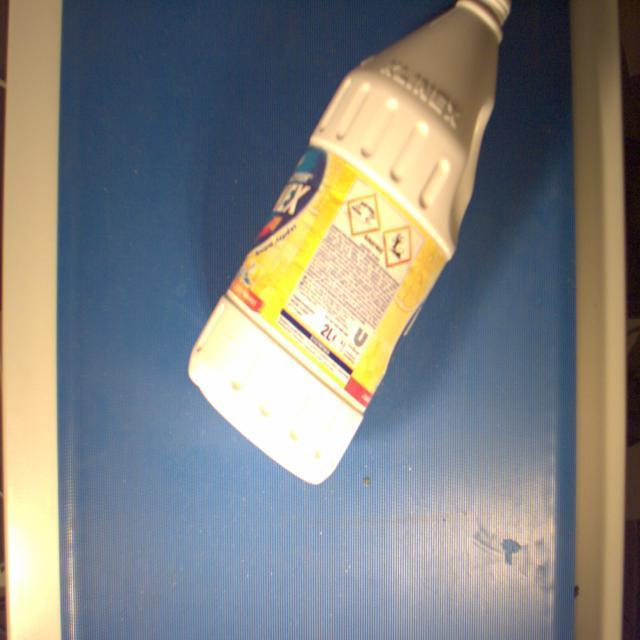HDPE Plastic: (183, 0, 515, 488)
